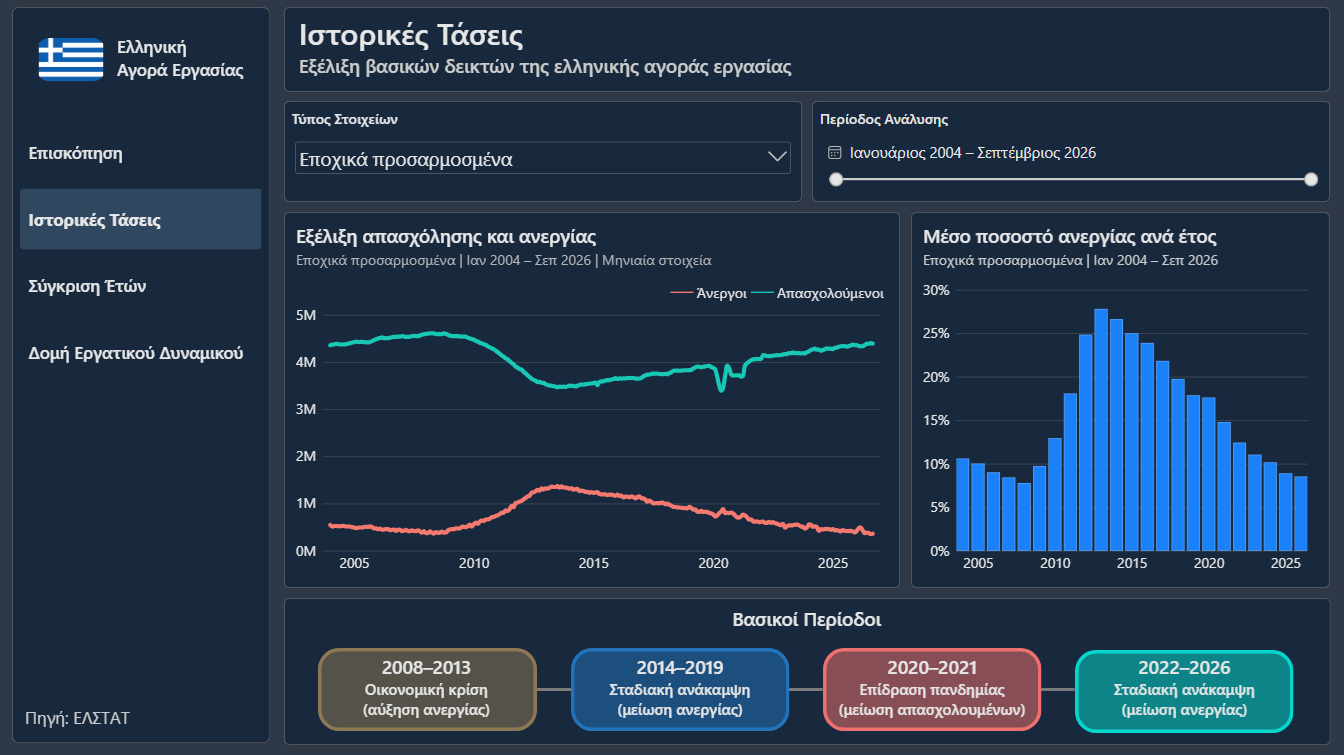

The page's visual inventory and layout, read from the dashboard file:
{"tool":"powerbi","page":{"name":"Ιστορικές Τάσεις","canvas":[1920,1080],"ordinal":1},"visuals":[{"type":"shape","box":[16.7,11.7,368.3,1051.7],"z":0},{"type":"textbox","box":[35.7,1010,325.7,40],"z":1000},{"type":"image","box":[50.7,55.7,100,61.7],"z":2000},{"type":"textbox","box":[166.4,50.7,212.9,82.9],"z":3000},{"type":"pageNavigator","box":[28.6,175.7,345,372],"z":4000},{"type":"textbox","box":[405.7,11.4,1494.3,121],"z":5000},{"type":"slicer","title":"Τύπος Στοιχείων","fields":{"Values":["Πίνακας 1Α.Τύπος Στοιχείων"]},"box":[405.7,146.2,740,144.3],"z":6000},{"type":"lineChart","title":"Εξέλιξη απασχόλησης και ανεργίας","fields":{"Category":["Πίνακας 1Α.Ημερομηνία.Variation.Date Hierarchy.Year","Πίνακας 1Α.Ημερομηνία.Variation.Date Hierarchy.Month"],"Y":["Πίνακας 1Α.Ιστορικά Άνεργοι","Πίνακας 1Α.Ιστορικά Απασχολούμενοι"]},"box":[405.6,304.3,880,536.9],"z":7000},{"type":"slicer","title":"Περίοδος Ανάλυσης","fields":{"Values":["Επιλογή Ιστορικής Περιόδου.Date"]},"box":[1160,146.2,740,144.3],"z":8000},{"type":"clusteredColumnChart","title":"Μέσο ποσοστό ανεργίας ανά έτος","fields":{"Category":["Πίνακας 1Α.Ημερομηνία.Variation.Date Hierarchy.Year"],"Y":["Πίνακας 1Α.Ιστορικά Μέσο Ποσοστό Ανεργίας"]},"box":[1301,304.2,598,537],"z":9000},{"type":"shape","title":"Βασικοί Περίοδοι","box":[405,855,1495,210],"z":10000},{"type":"textbox","box":[405,866.7,1493.3,50],"z":11000},{"type":"shape","box":[454,927,312.9,118.6],"z":12000},{"type":"textbox","box":[453.5,935,312.6,106.4],"z":13000},{"type":"shape","box":[815.2,927,312,118.6],"z":14000},{"type":"textbox","box":[815.7,935.7,311.4,107.1],"z":15000},{"type":"shape","box":[1175.6,927,312,118.6],"z":16000},{"type":"textbox","box":[1175.7,935.7,311.4,107.1],"z":17000},{"type":"shape","box":[1536,930,312,118.6],"z":18000},{"type":"textbox","box":[1536.2,935,312.6,109.1],"z":19000},{"type":"shape","box":[766.8,926.8,48.9,118.6],"z":20000},{"type":"shape","box":[1127.2,926.9,48.3,118.6],"z":21000},{"type":"shape","box":[1487.6,927,48,118.5],"z":22000}]}

Visuals, with their boxes on the page's 1920x1080 design canvas (x1, y1, x2, y2). These are canvas units, not pixel positions in the 1344x755 screenshot, which may show the page scaled, cropped or inside an application window:
shape: 17/12/385/1063
textbox: 36/1010/361/1050
image: 51/56/151/117
textbox: 166/51/379/134
pageNavigator: 29/176/374/548
textbox: 406/11/1900/132
"Τύπος Στοιχείων" slicer: 406/146/1146/290
"Εξέλιξη απασχόλησης και ανεργίας" lineChart: 406/304/1286/841
"Περίοδος Ανάλυσης" slicer: 1160/146/1900/290
"Μέσο ποσοστό ανεργίας ανά έτος" clusteredColumnChart: 1301/304/1899/841
"Βασικοί Περίοδοι" shape: 405/855/1900/1065
textbox: 405/867/1898/917
shape: 454/927/767/1046
textbox: 454/935/766/1041
shape: 815/927/1127/1046
textbox: 816/936/1127/1043
shape: 1176/927/1488/1046
textbox: 1176/936/1487/1043
shape: 1536/930/1848/1049
textbox: 1536/935/1849/1044
shape: 767/927/816/1045
shape: 1127/927/1176/1046
shape: 1488/927/1536/1046
